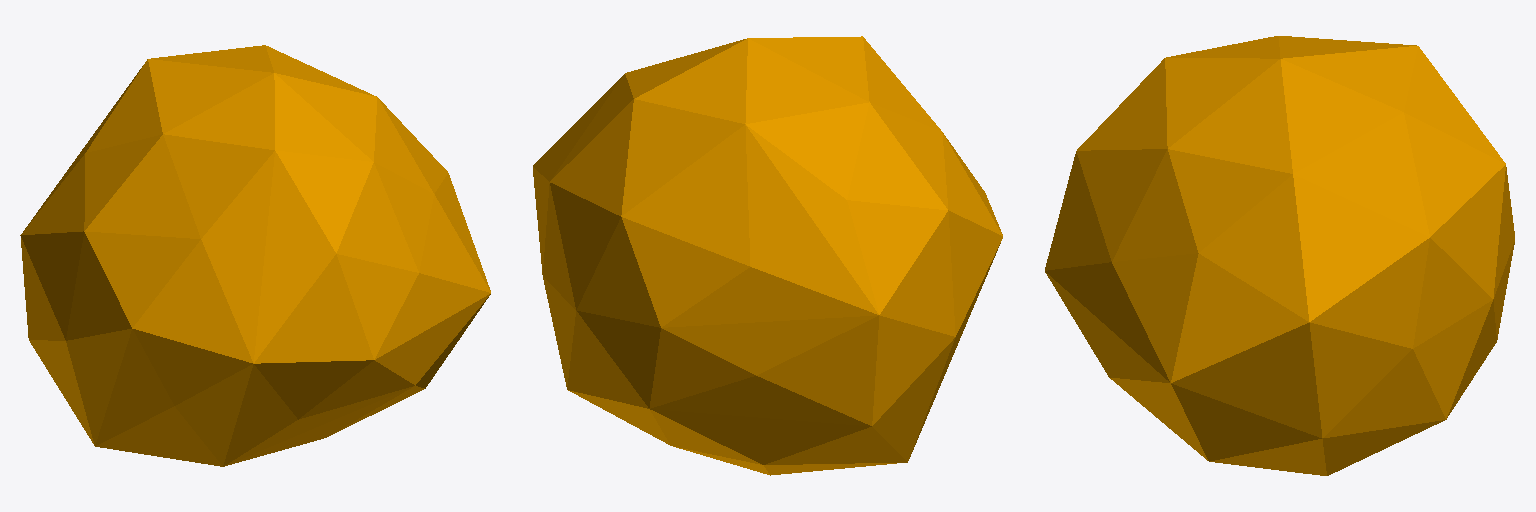
URDF robot description (ic1960):
<?xml version="1.0"?>
<robot name="ic1960">
  <link name="link">
    <contact>
      <lateral_friction value="0.6"/>
    </contact>
    <inertial>
      <mass value = "1.2248551533638101"/>
      <inertia ixx="0.0011065157940676705" ixy="1.4217624484860775e-19" ixz="-1.2841725341164573e-19" iyy="0.0011629257552614458" iyz="2.293165239493673e-20" izz="0.0011992128380267884" />
    </inertial>
    <visual name="visual">
      <geometry>
        <mesh filename="ic1960.obj"/>
      </geometry>
    </visual>
    <collision name="collision">
      <geometry>
        <mesh filename="ic1960.obj"/>
      </geometry>
    </collision>
  </link>
</robot>

--- What the picture shows (computed from the rendered views, not written in the file) ---
Views: 3 orthographic renders of the robot side by side, from view 1: azimuth 30°, elevation 25°; view 2: azimuth 150°, elevation 25°; view 3: azimuth 270°, elevation 25°.
Robot: ic1960 — 1 links, 0 joints (none); root link link; default pose: all joints at 0.
Visible links, largest first — view 1: link; view 2: link; view 3: link.
Boxes of the visible links, bbox=[...] form: link: bbox=[20, 45, 490, 466]; link: bbox=[533, 36, 1002, 475]; link: bbox=[1045, 36, 1514, 475].
Size in the robot's own frame: 0.105 by 0.1032 by 0.0989 metres.
Meshes: 1 distinct files referenced, 1 mesh visuals loaded (1 OBJ).
